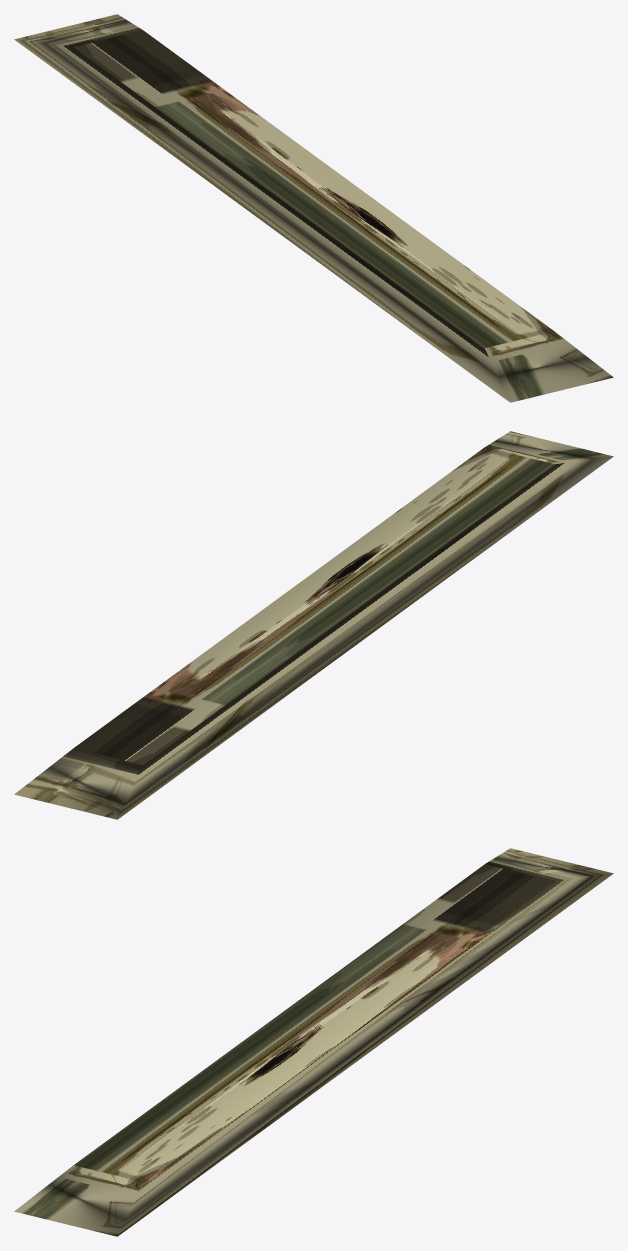
The model's file is SM_florecent.fbx.
The picture shows the model from 3 angles, top to bottom: view 1: azimuth 30°, elevation 25°; view 2: azimuth 150°, elevation 25°; view 3: azimuth 330°, elevation 25°; orthographic projection.
Parts seen in each view (by area): view 1: Cube.011; view 2: Cube.011; view 3: Cube.011.
Part boxes in pixels (x1=…): Cube.011: x1=14, y1=14, x2=613, y2=402; Cube.011: x1=14, y1=431, x2=613, y2=819; Cube.011: x1=14, y1=848, x2=613, y2=1236.
Size of the model in its own units: 17.43 by 3.59 by 145.
